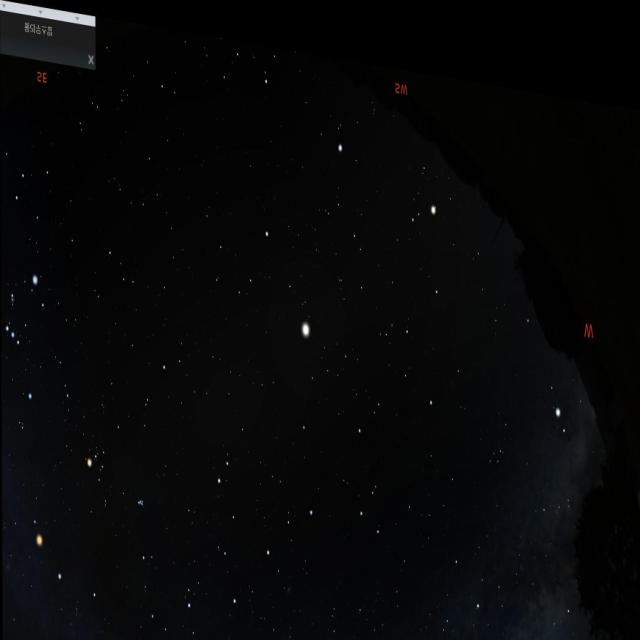cygnus: (453, 547, 578, 640)
orion: (1, 252, 43, 435)
pleiades: (129, 486, 152, 514)
taurus: (81, 416, 152, 526)
